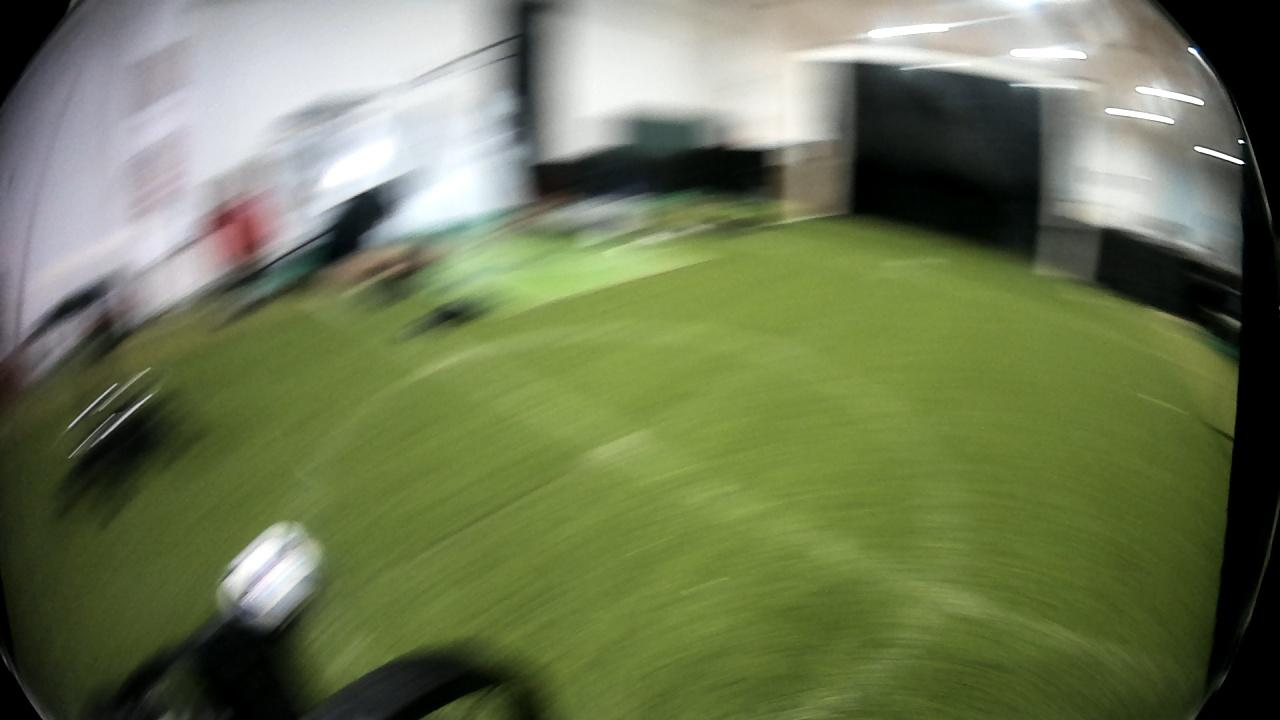ball: (214, 514, 334, 639)
